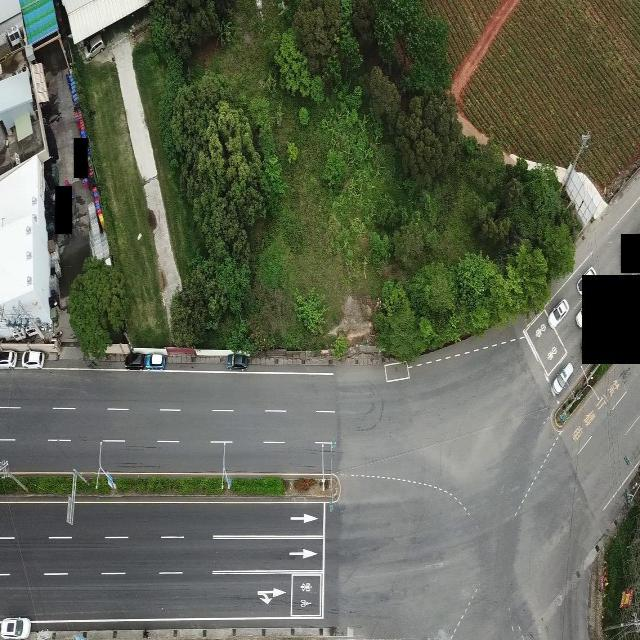car: (551, 361, 573, 396), (0, 616, 31, 639), (547, 297, 569, 328), (83, 36, 104, 60), (226, 352, 249, 371), (22, 350, 44, 369), (144, 352, 167, 370), (124, 352, 145, 369), (0, 350, 17, 370)
